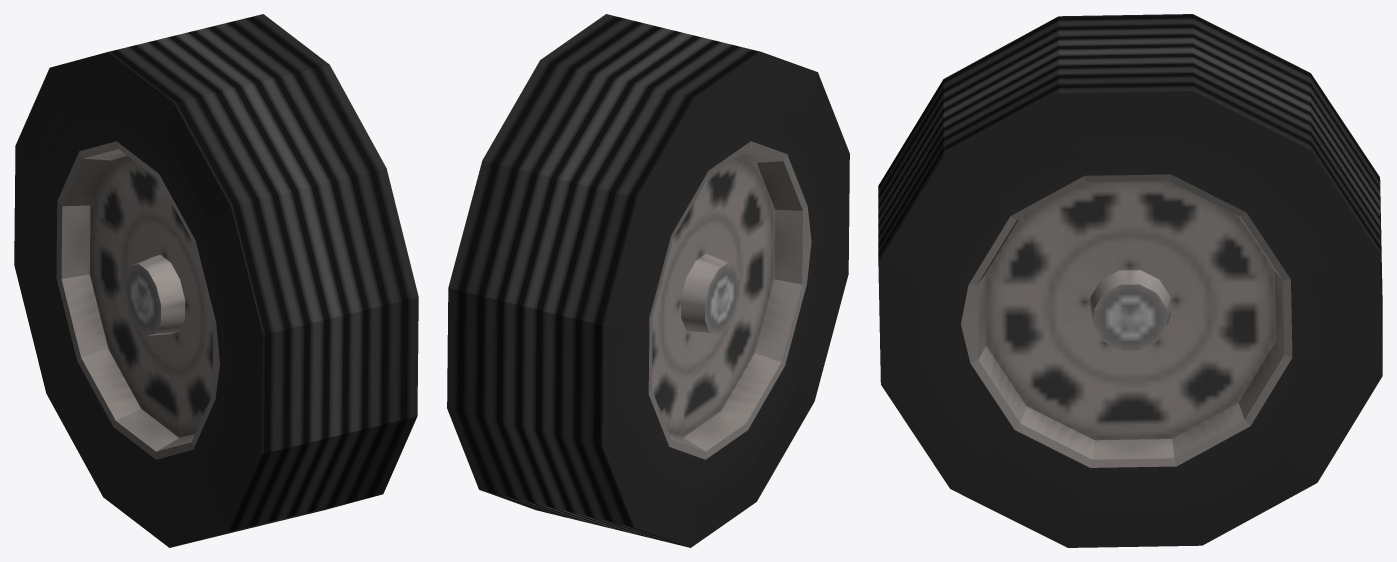
The model's file is ETK2400PreWheelA.fbx.
3 renders of one model, left to right at view 1: azimuth 30°, elevation 25°; view 2: azimuth 150°, elevation 25°; view 3: azimuth 270°, elevation 25°, orthographic.
Parts seen in each view (by area): view 1: ETKWheel1; view 2: ETKWheel1; view 3: ETKWheel1.
Boxes of the visible parts, box(x1,y1,x2,y2) form: ETKWheel1: box(14, 14, 418, 547); ETKWheel1: box(447, 14, 849, 547); ETKWheel1: box(878, 14, 1382, 547).
Bounding box in the file's own units: 0.2793 × 0.7456 × 0.7456.
